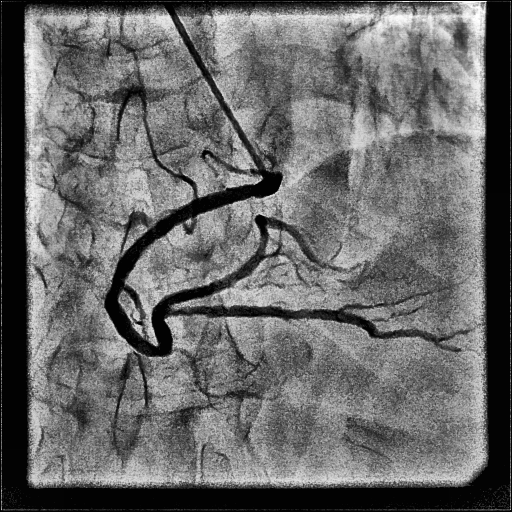pborca: (158, 215, 347, 310)
pda: (166, 306, 461, 352)
rca: (104, 185, 256, 357)
